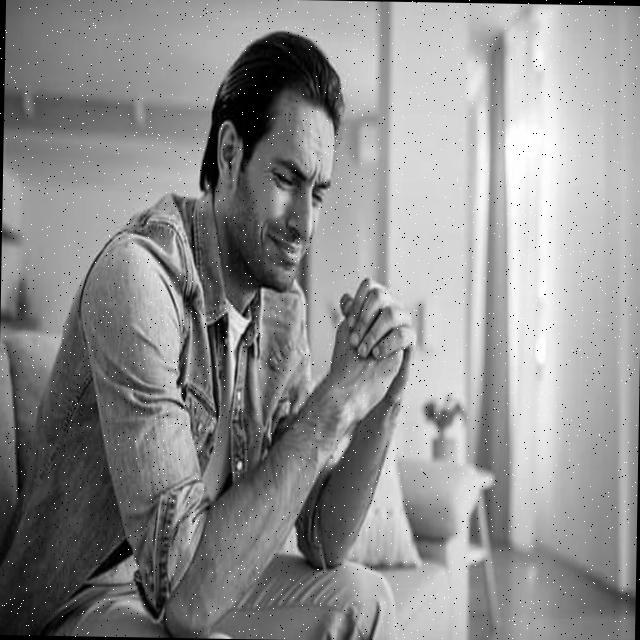Sadness: (249, 83, 336, 290)
